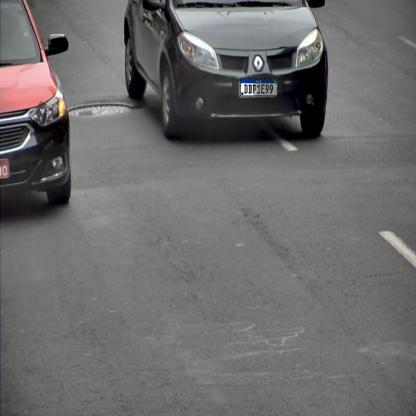PlacaM: (240, 78, 278, 96)
